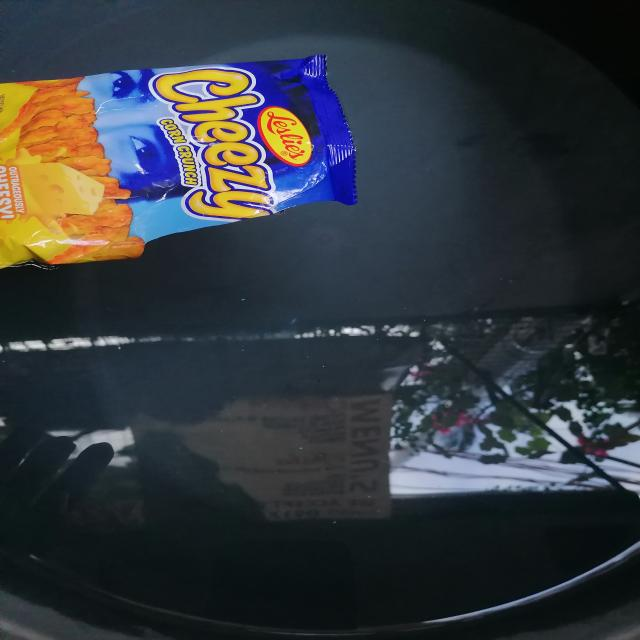Plastic Wrapper: (0, 33, 390, 284)
